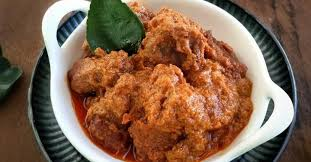rendang: (34, 10, 272, 162)
